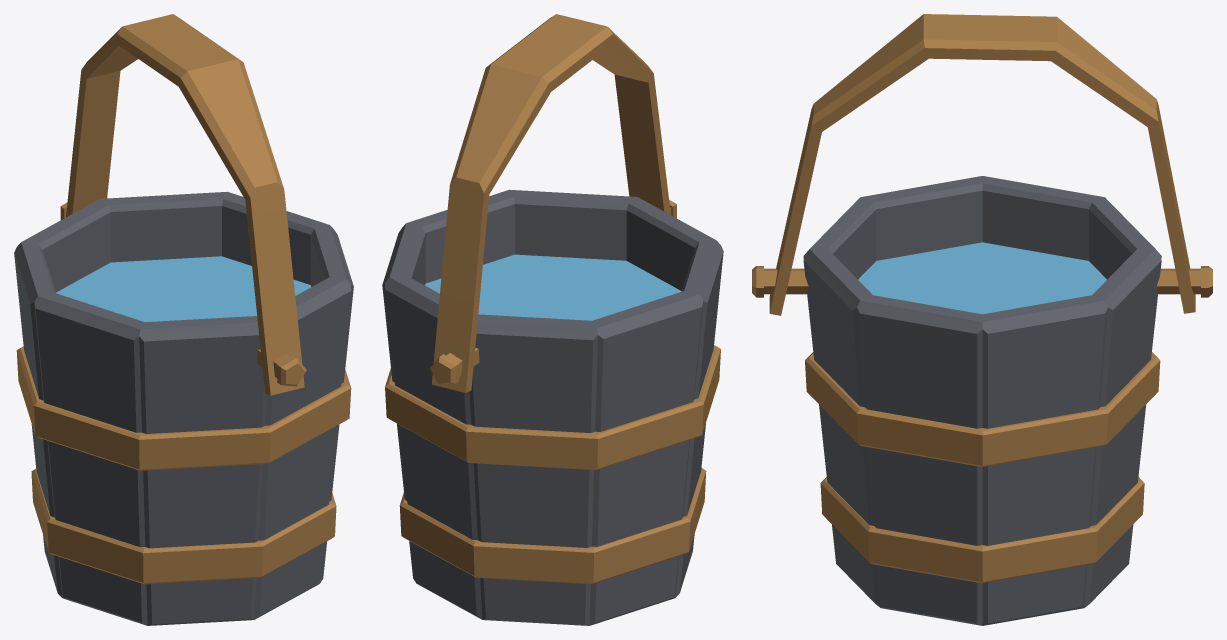
The model's file is bucket.glb.
The picture shows the model from 3 angles, left to right: view 1: azimuth 30°, elevation 25°; view 2: azimuth 150°, elevation 25°; view 3: azimuth 270°, elevation 25°; orthographic projection. The views are drawn at different scales.
Visible parts, largest first — view 1: bucket_a001.001; view 2: bucket_a001.001; view 3: bucket_a001.001.
Part boxes in pixels (left/top/right/bottom): bucket_a001.001: left=14, top=14, right=353, bottom=625; bucket_a001.001: left=382, top=14, right=723, bottom=625; bucket_a001.001: left=752, top=14, right=1212, bottom=625.
Bounding box in the file's own units: 0.2707 × 0.4489 × 0.3482.
